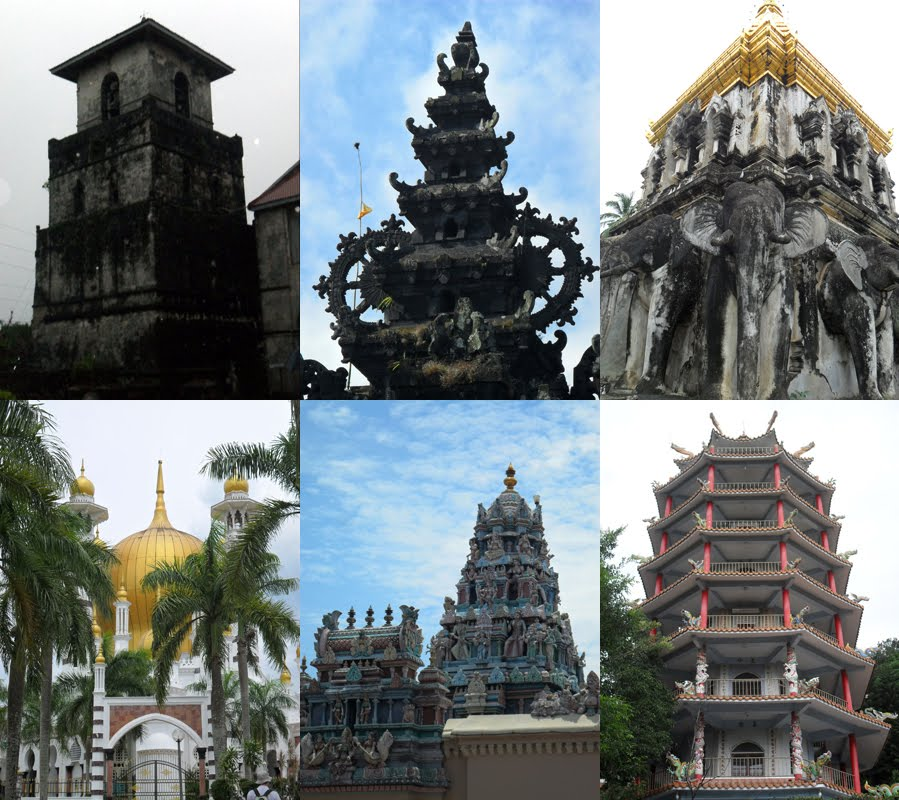Hindu Temple: (304, 472, 590, 765)
